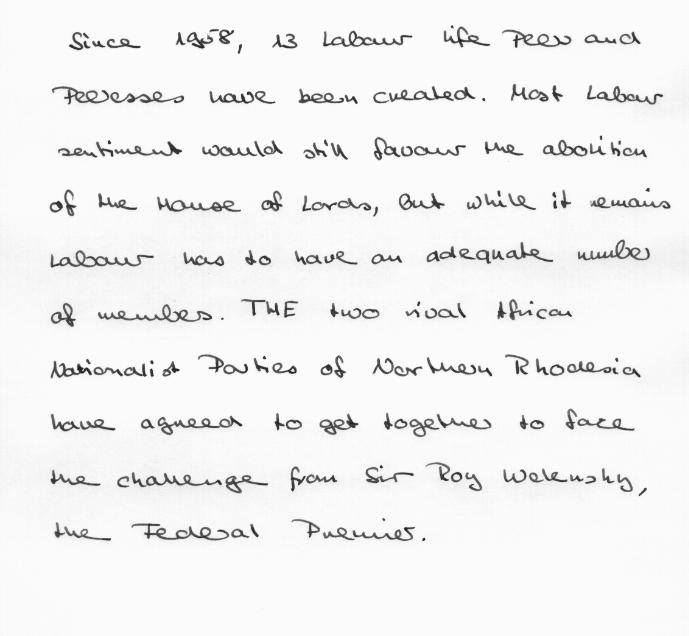text: (45, 460, 651, 497), (46, 185, 673, 220), (46, 237, 653, 271), (47, 351, 644, 385), (47, 405, 639, 439), (65, 23, 645, 57), (48, 296, 575, 332), (48, 81, 665, 110), (55, 134, 649, 162), (51, 516, 427, 545)
